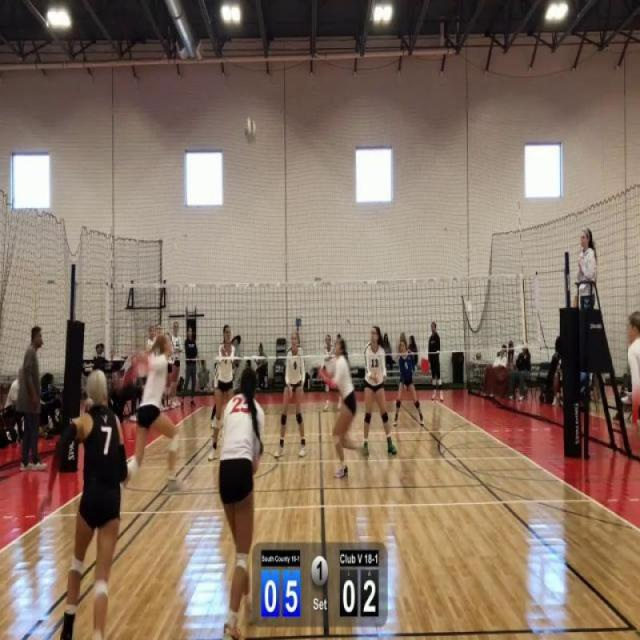volleyball: (242, 116, 258, 147)
